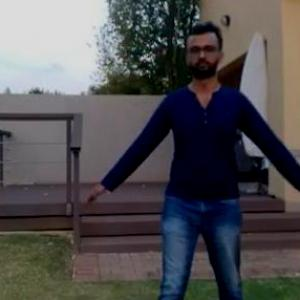land: (102, 47, 286, 299)
